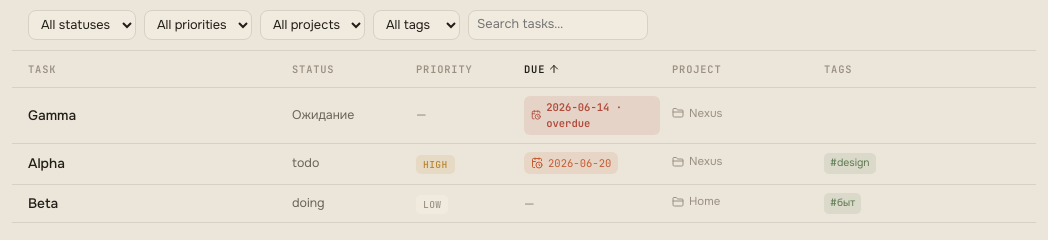
Scenario: ListBoardView (VIEW-1) › пусто-после-фильтра показывает сообщение
Type "нет-такого" into the field labelled "Search tasks…" at [558, 25], box [468,10,648,40]
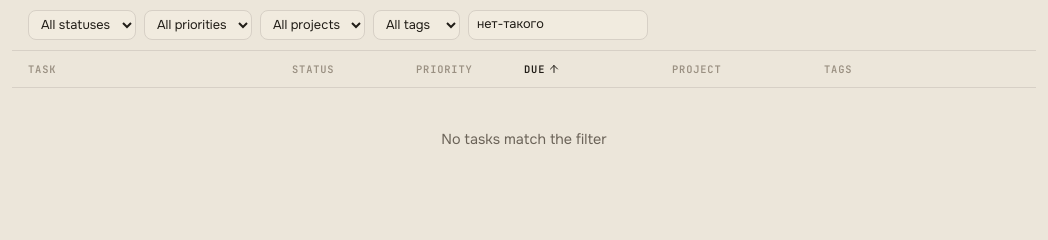
Expected: the text "No tasks match the filter" is shown, [441,130,607,148]
